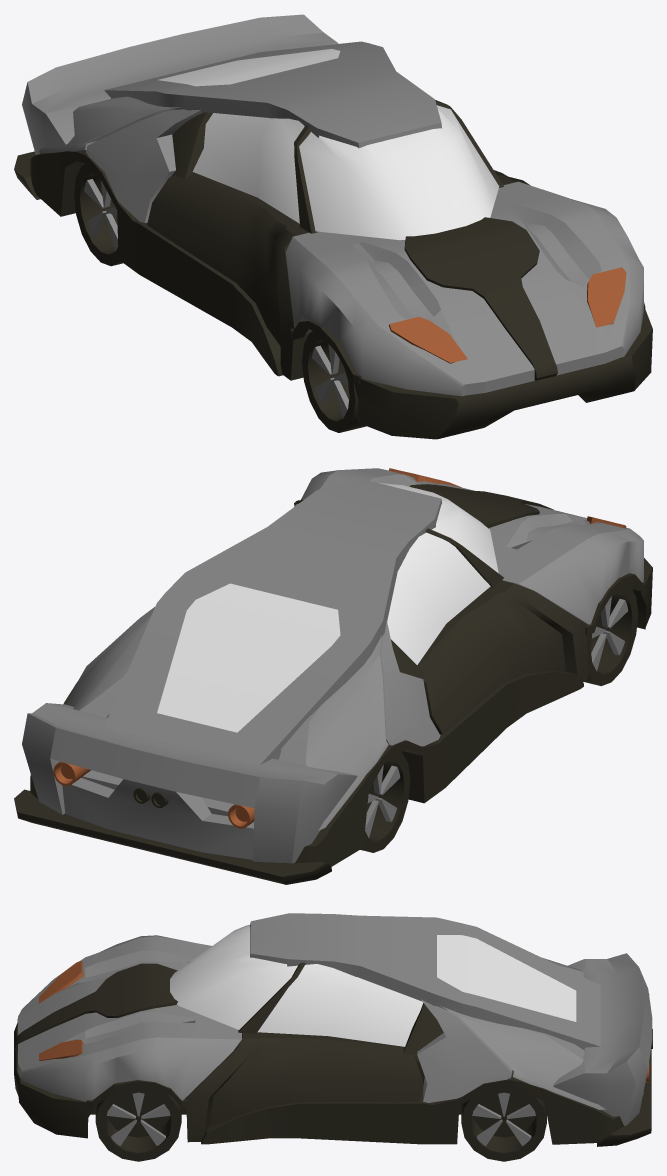
The model's file is car model 3 sports.fbx.
3 renders of one model, top to bottom at view 1: azimuth 30°, elevation 25°; view 2: azimuth 150°, elevation 25°; view 3: azimuth 270°, elevation 25°, orthographic. The views are drawn at different scales.
Visible parts, largest first — view 1: hood, roof, front wheel, back wheel, rim front.002, rim.002; view 2: roof, hood, front wheel, back wheel, rim front.002, rim.002, rearlight; view 3: hood, roof, front wheel, back wheel, rim front.002, rim.002.
Boxes of the visible parts, x1,y1,x2,y2 form: hood: (14,96,652,439); roof: (22,14,499,240); front wheel: (302,331,366,432); back wheel: (74,164,122,266); rim front.002: (312,344,348,418); rim.002: (84,179,118,251); roof: (22,478,498,863); hood: (14,468,652,884); front wheel: (584,585,638,686); back wheel: (360,752,410,852); rim front.002: (591,596,628,670); rim.002: (365,765,400,837); rearlight: (53,761,254,828); hood: (14,935,651,1146); roof: (170,913,652,1125); front wheel: (95,1087,181,1161); back wheel: (461,1087,546,1161); rim front.002: (107,1092,170,1145); rim.002: (472,1092,535,1145).
Bounding box in the file's own units: 1273 × 849 × 2872.
